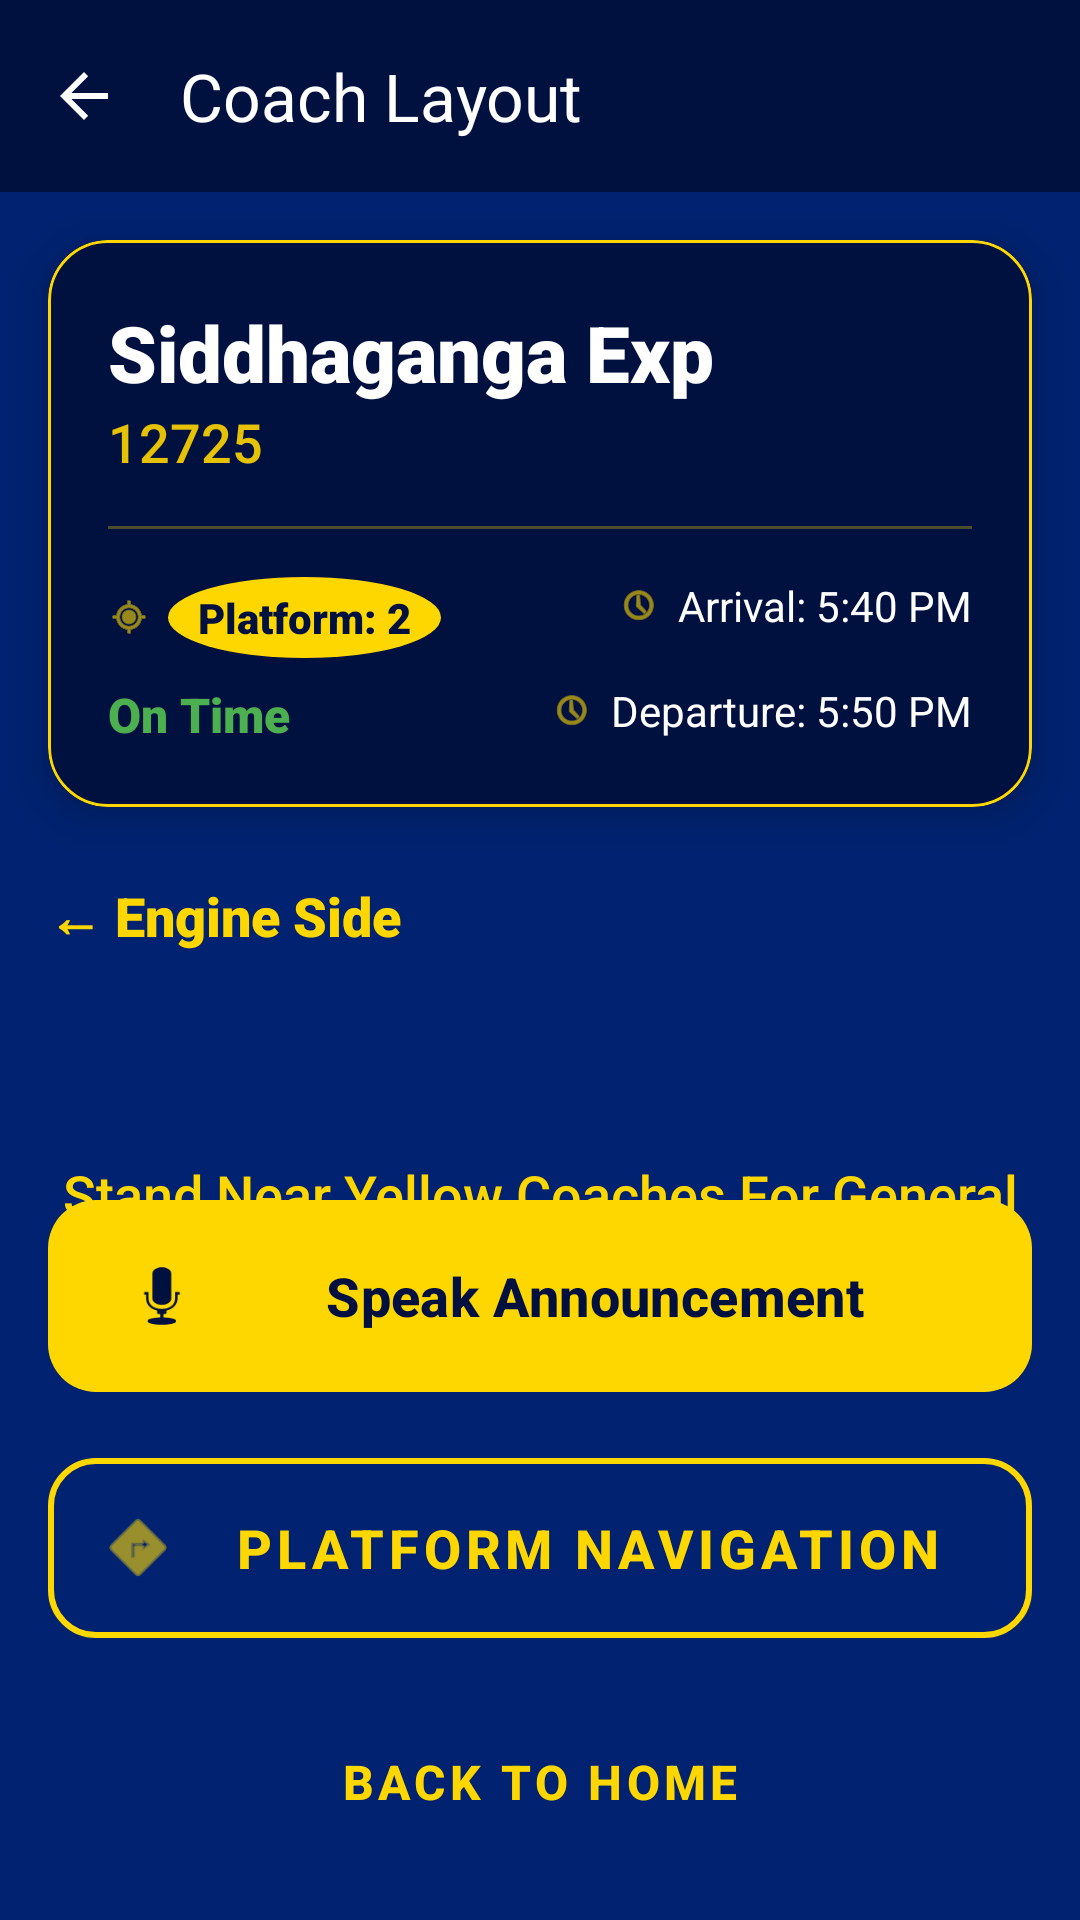

Where icons sit on this 1080 x 1920 app screen, as (x1, y1, x2, y2):
mylocation: (112, 600, 146, 634)
recent history: (624, 590, 654, 620), (557, 695, 587, 725)
